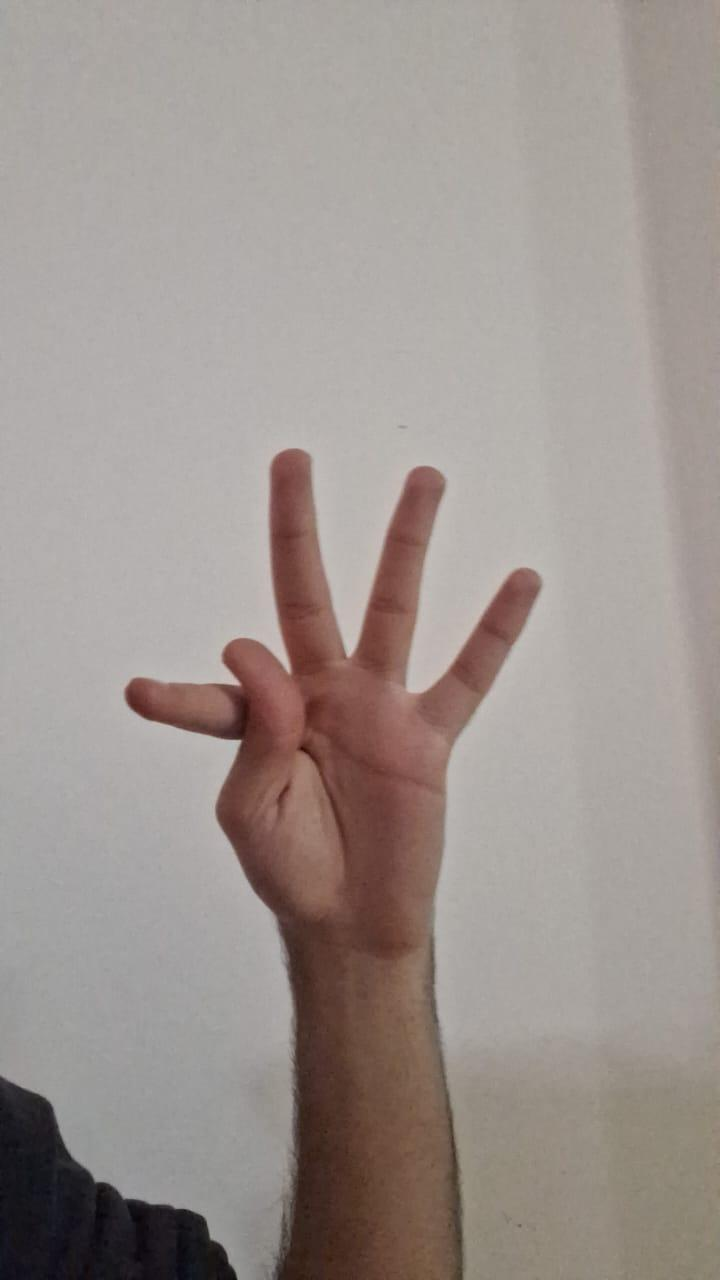T: (113, 437, 547, 933)
